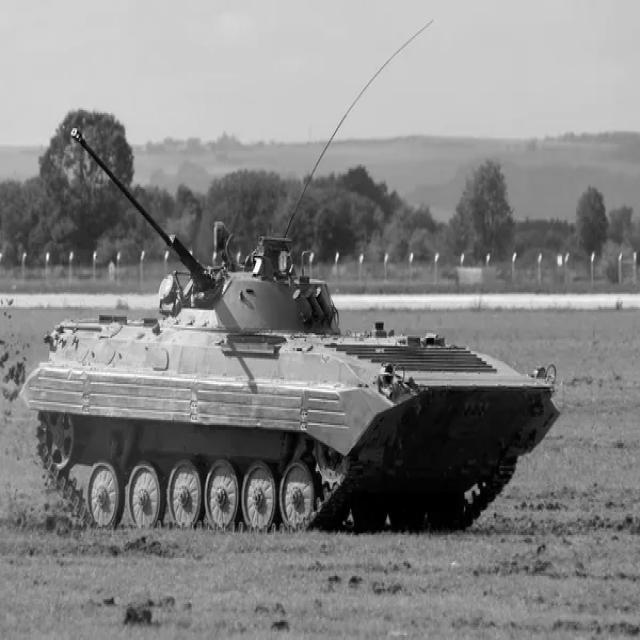Tank: (27, 164, 567, 553)
